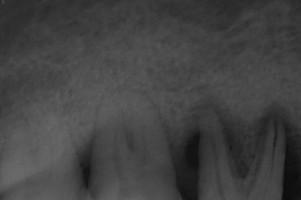Dental Caries: (184, 98, 292, 180)
